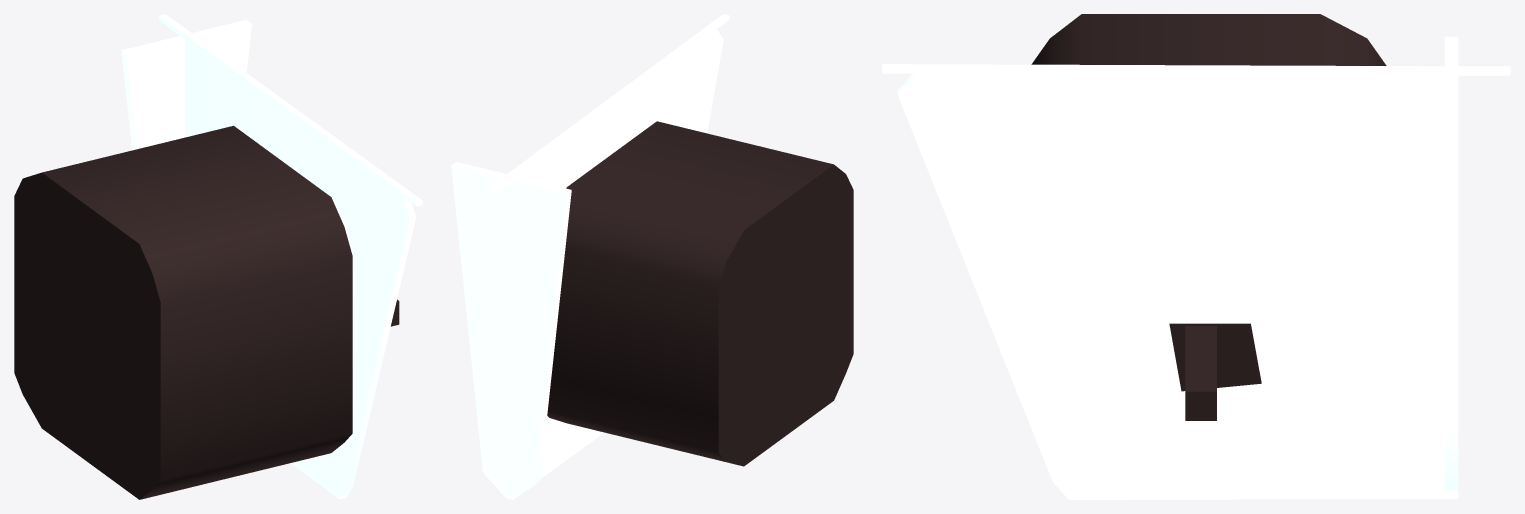
The model's file is motorLeft.dae.
The picture shows the model from 3 angles, left to right: view 1: azimuth 30°, elevation 25°; view 2: azimuth 150°, elevation 25°; view 3: azimuth 270°, elevation 25°; orthographic projection. The views are drawn at different scales.
Parts seen in each view (by area): view 1: Cube.12, Cube.3; view 2: Cube.12, Cube.3; view 3: Cube.3, Cube.12.
Part boxes in pixels (left/top/right/bottom): Cube.12: left=14, top=125, right=399, bottom=499; Cube.3: left=121, top=14, right=422, bottom=499; Cube.12: left=547, top=121, right=853, bottom=466; Cube.3: left=451, top=14, right=729, bottom=499; Cube.3: left=882, top=36, right=1510, bottom=499; Cube.12: left=1031, top=14, right=1386, bottom=420.
Bounding box in the file's own units: 33.6 × 37.55 × 49.52.
